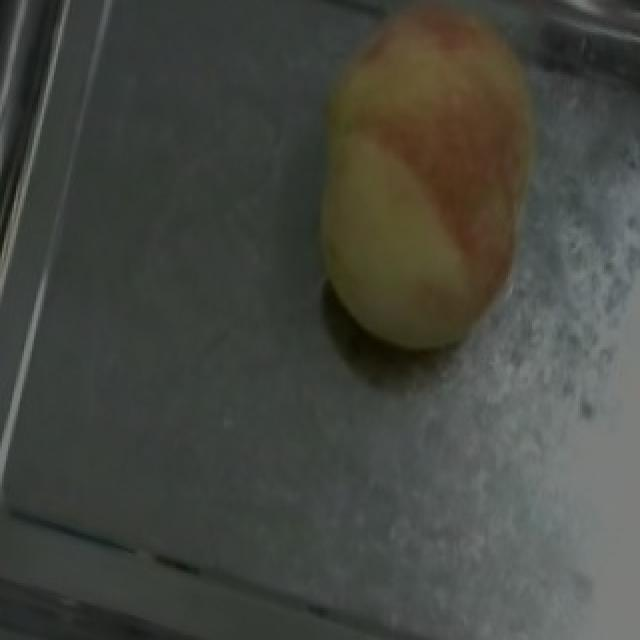Fruit: (276, 0, 584, 370)
